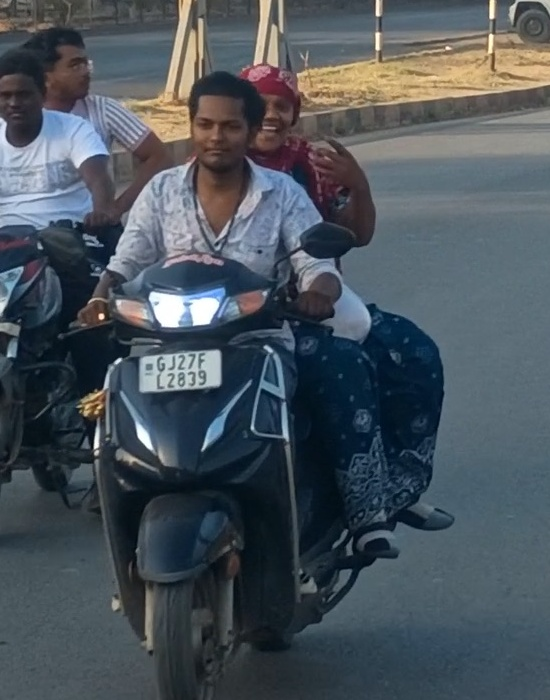BikeWithRider: (48, 58, 460, 700), (0, 23, 183, 508)
NoHelmet: (178, 69, 266, 175), (229, 59, 309, 163), (25, 25, 98, 104), (0, 48, 54, 132)
